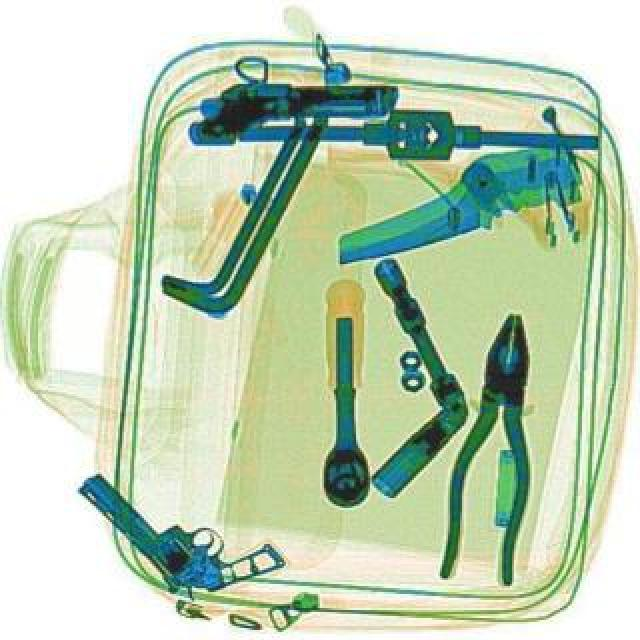gun: (76, 426, 292, 626), (190, 80, 400, 148)
wrench: (440, 304, 556, 584)
